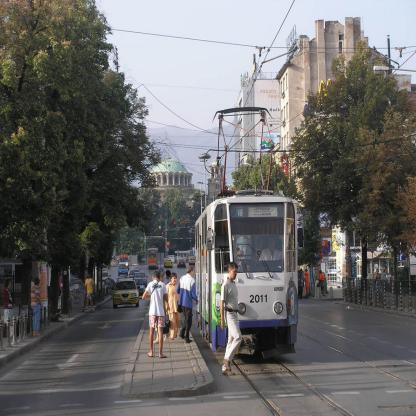bus: (194, 105, 303, 357), (146, 247, 158, 270)
